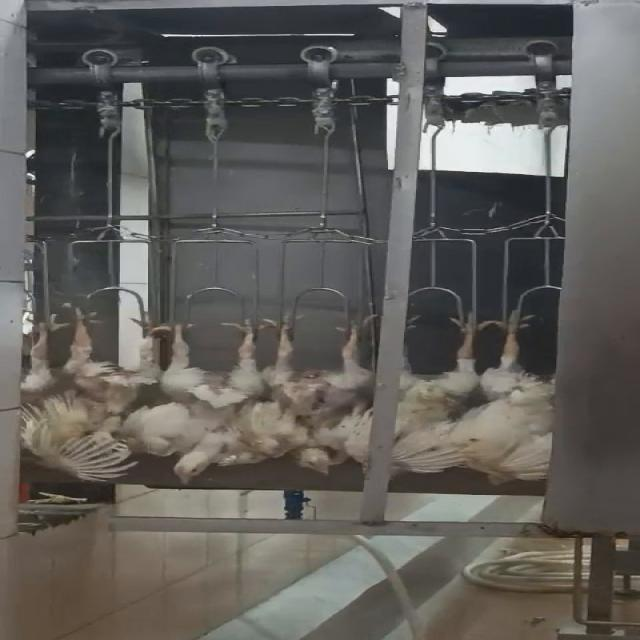chicken: (133, 316, 275, 487), (247, 309, 373, 482), (386, 306, 496, 479), (64, 304, 149, 484), (480, 304, 553, 488), (0, 303, 67, 475)
